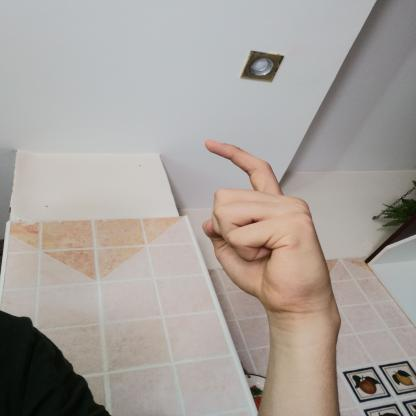RAA: (189, 130, 347, 324)
